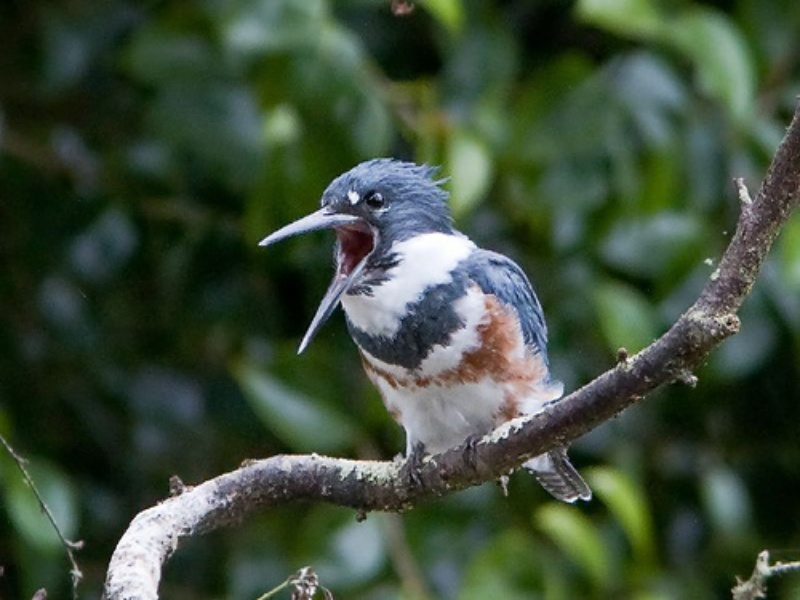kingfisher: (249, 156, 599, 508)
